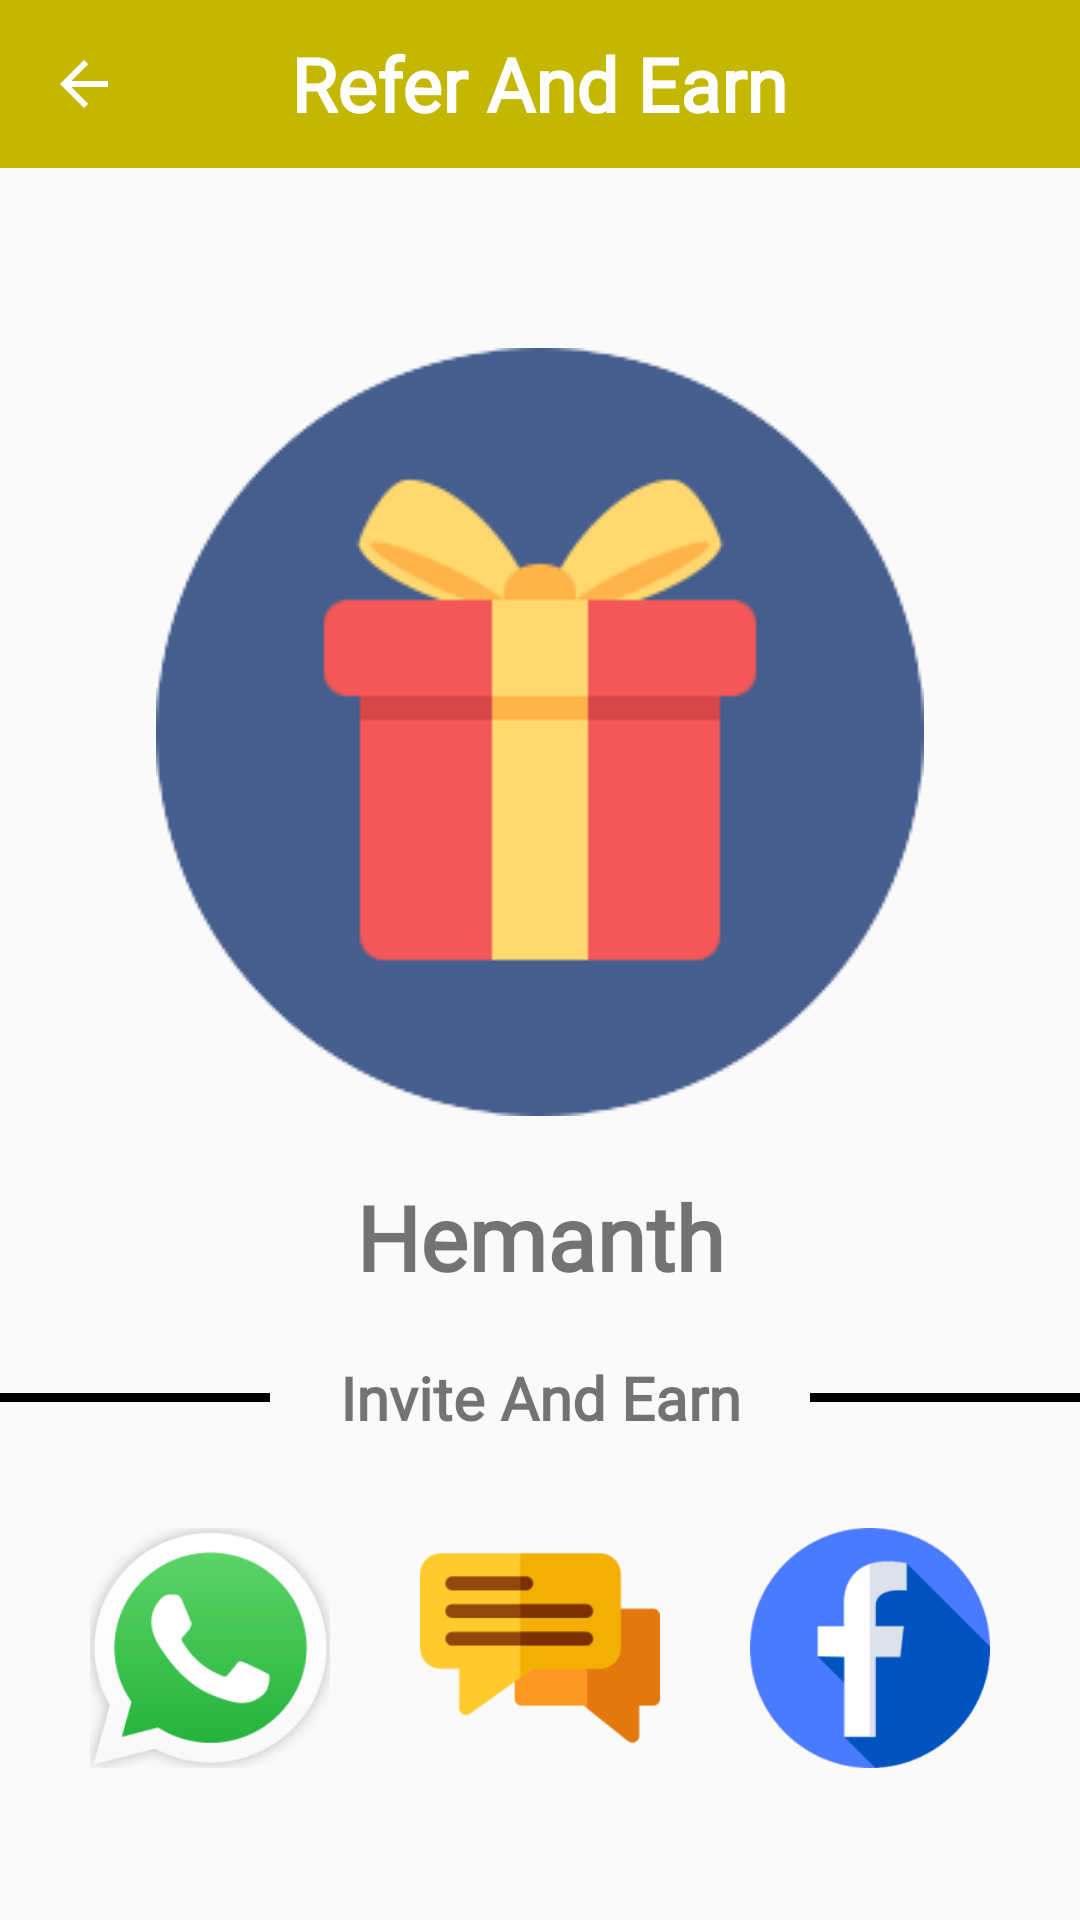

Where icons sit on this 1080 × 1920 app screen, as bbox(x1, y1, x2, y2):
message: bbox(420, 1553, 660, 1743)
